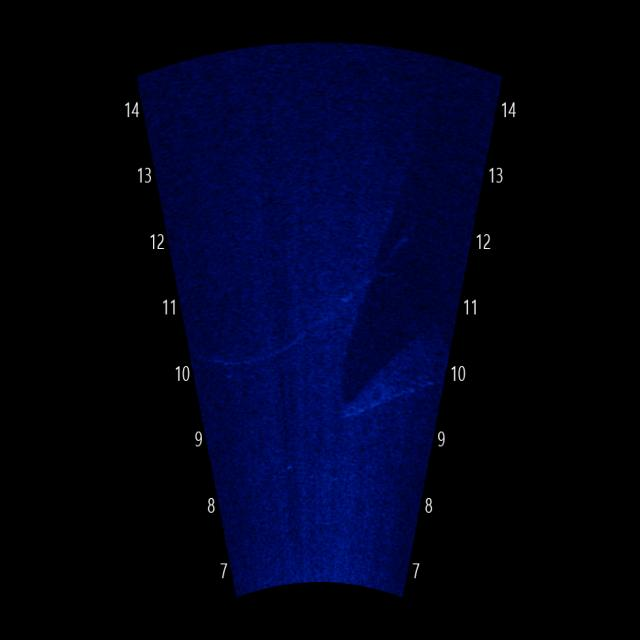triangle: (340, 298, 461, 429)
